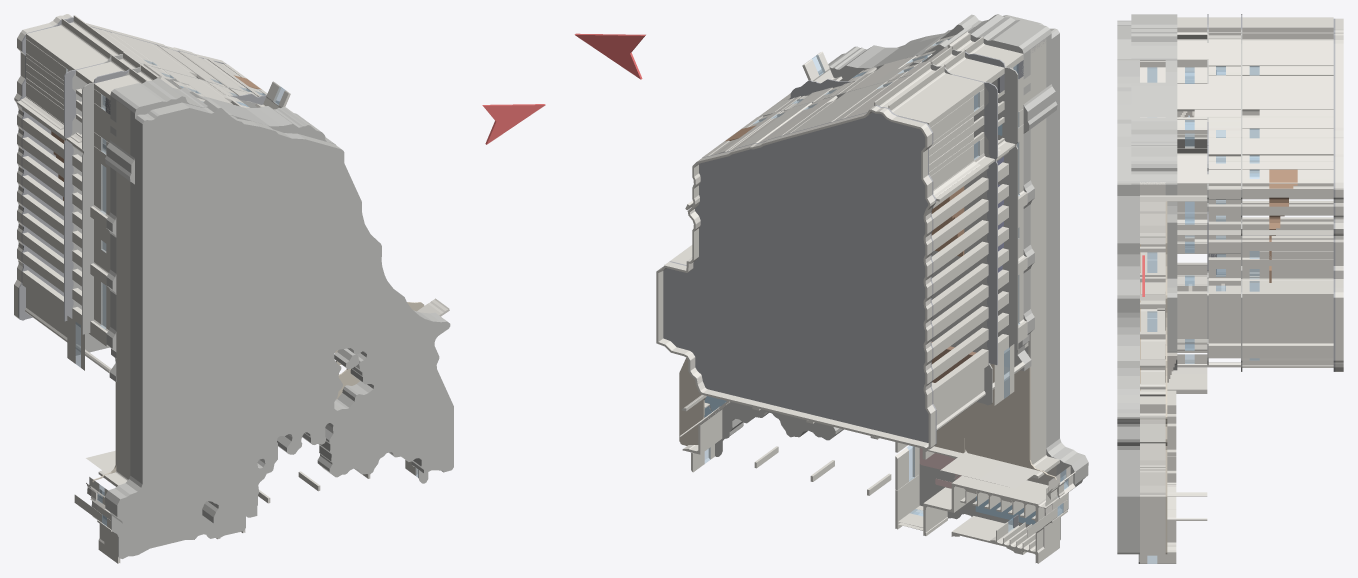
Rendered from PathFinder_Admin_Block.fbx.
3 views of the same model, side by side, from view 1: azimuth 30°, elevation 25°; view 2: azimuth 150°, elevation 25°; view 3: azimuth 270°, elevation 25° (orthographic). The views are drawn at different scales.
Visible parts, largest first — view 1: AB_FC_Foundation, AB_2F_Walls, AB_FC_Walls, AB_GF_Walls, AB_FC_Slab, AB_GF_Foundation, AB_FF_Walls, AB_FF_Slab, AB_GF_Slab, AB_2F_Roof, AB_FF_Roof, AB_2F_Parapet (+4 smaller); view 2: AB_2F_Roof, AB_2F_Walls, AB_FC_Walls, AB_2F_Parapet, AB_FC_Plaza_Deck, AB_FC_Foundation, AB_FF_Walls, AB_GF_Walls, AB_GF_Slab, AB_FC_Slab, AB_FF_Slab, AB_GF_Foundation (+6 smaller); view 3: AB_2F_Walls, AB_FC_Walls, AB_GF_Walls, AB_FC_Foundation, AB_FF_Walls, AB_GF_Foundation, AB_GF_Slab, AB_2F_Parapet, AB_GF_Glazing, AB_2F_Roof, AB_FC_Plaza_Deck, AB_2F_SeminarHall_UpperGallery (+6 smaller).
Boxes of the visible parts, <box> form: AB_FC_Foundation: <box>105,99,453,525</box>; AB_2F_Walls: <box>16,15,267,342</box>; AB_FC_Walls: <box>74,98,449,563</box>; AB_GF_Walls: <box>76,55,290,373</box>; AB_FC_Slab: <box>105,99,435,558</box>; AB_GF_Foundation: <box>111,82,335,184</box>; AB_FF_Walls: <box>66,52,293,370</box>; AB_FF_Slab: <box>82,67,261,334</box>; AB_GF_Slab: <box>105,78,302,381</box>; AB_2F_Roof: <box>18,17,226,320</box>; AB_FF_Roof: <box>64,63,103,321</box>; AB_2F_Parapet: <box>14,14,225,318</box>; AB_2F_Roof: <box>662,105,936,444</box>; AB_2F_Walls: <box>665,62,994,430</box>; AB_FC_Walls: <box>679,35,1075,563</box>; AB_2F_Parapet: <box>656,106,935,450</box>; AB_FC_Plaza_Deck: <box>679,358,1056,479</box>; AB_FC_Foundation: <box>730,14,1088,491</box>; AB_FF_Walls: <box>759,47,1015,405</box>; AB_GF_Walls: <box>764,31,1027,387</box>; AB_GF_Slab: <box>802,29,1036,371</box>; AB_FC_Slab: <box>705,24,1075,539</box>; AB_FF_Slab: <box>798,49,1018,350</box>; AB_GF_Foundation: <box>828,14,1057,124</box>; AB_2F_Walls: <box>1242,17,1333,367</box>; AB_FC_Walls: <box>1140,60,1207,563</box>; AB_GF_Walls: <box>1177,17,1240,367</box>; AB_FC_Foundation: <box>1117,20,1138,554</box>; AB_FF_Walls: <box>1208,17,1240,367</box>; AB_GF_Foundation: <box>1131,14,1165,184</box>; AB_GF_Slab: <box>1165,14,1177,370</box>; AB_2F_Parapet: <box>1335,18,1343,371</box>; AB_GF_Glazing: <box>1185,67,1194,363</box>; AB_2F_Roof: <box>1333,18,1335,371</box>; AB_FC_Plaza_Deck: <box>1165,201,1167,554</box>; AB_2F_SeminarHall_UpperGallery: <box>1269,169,1297,282</box>.
Size of the model in its own units: 57.99 by 57.38 by 27.6.
